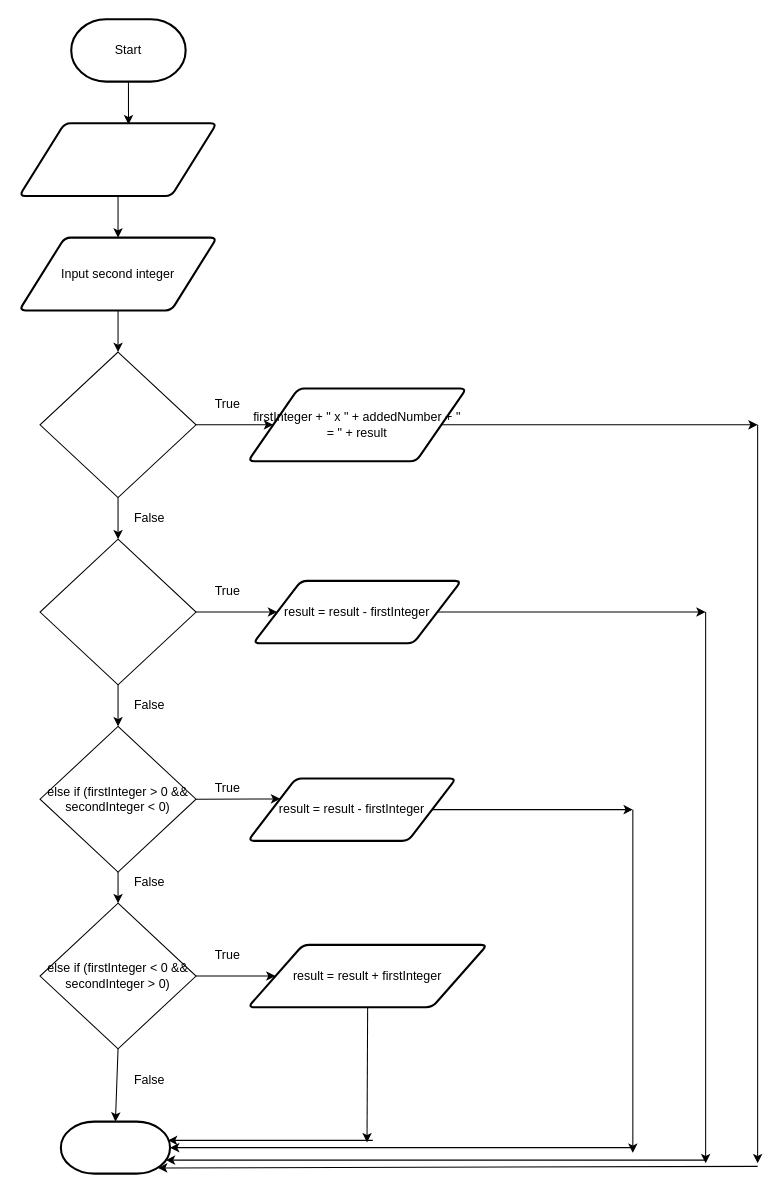
The diagram is 784 pixels wide and 1194 high, and some of its shapes have lost their labels. Each missing label, with the box of its shape:
else if (firstInteger < 0 && secondInteger < 0): (39, 538, 196, 685)
if (firstInteger > 0 && secondInteger > 0): (39, 351, 196, 498)
Input first integer: (18, 122, 217, 197)
Stop: (59, 1120, 171, 1174)
